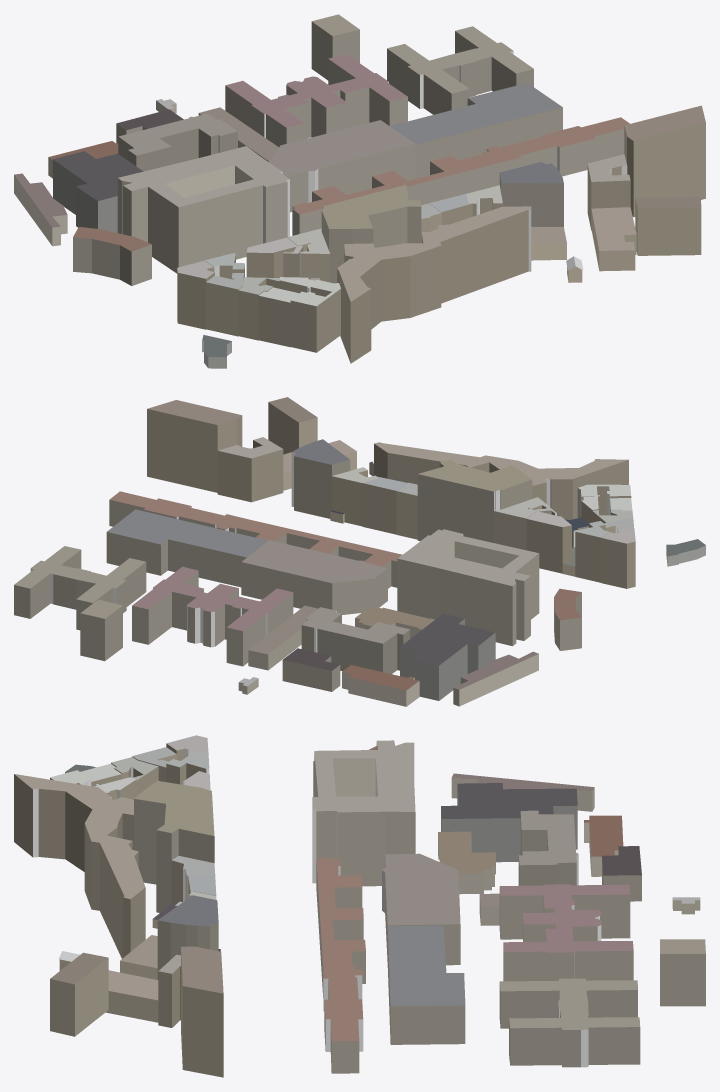
3 renders of one model, top to bottom at view 1: azimuth 30°, elevation 25°; view 2: azimuth 150°, elevation 25°; view 3: azimuth 270°, elevation 25°, orthographic. The views are drawn at different scales.
Parts seen in each view (by area): view 1: tuile; view 2: tuile; view 3: tuile.
Part boxes in pixels (left/top/right/bottom): tuile: left=14, top=14, right=705, bottom=368; tuile: left=14, top=397, right=705, bottom=706; tuile: left=14, top=735, right=705, bottom=1077.
Size of the model in its own units: 274 by 42.86 by 266.
